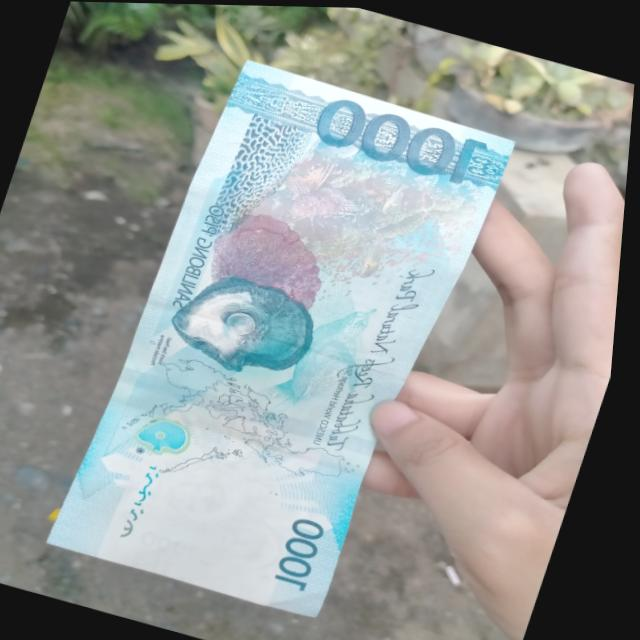see_through_mark: (120, 454, 174, 548)
value: (308, 91, 503, 190)
value_watermark: (144, 523, 209, 560)
watermark: (146, 450, 313, 570)
